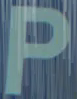Parking: (6, 1, 71, 90)
